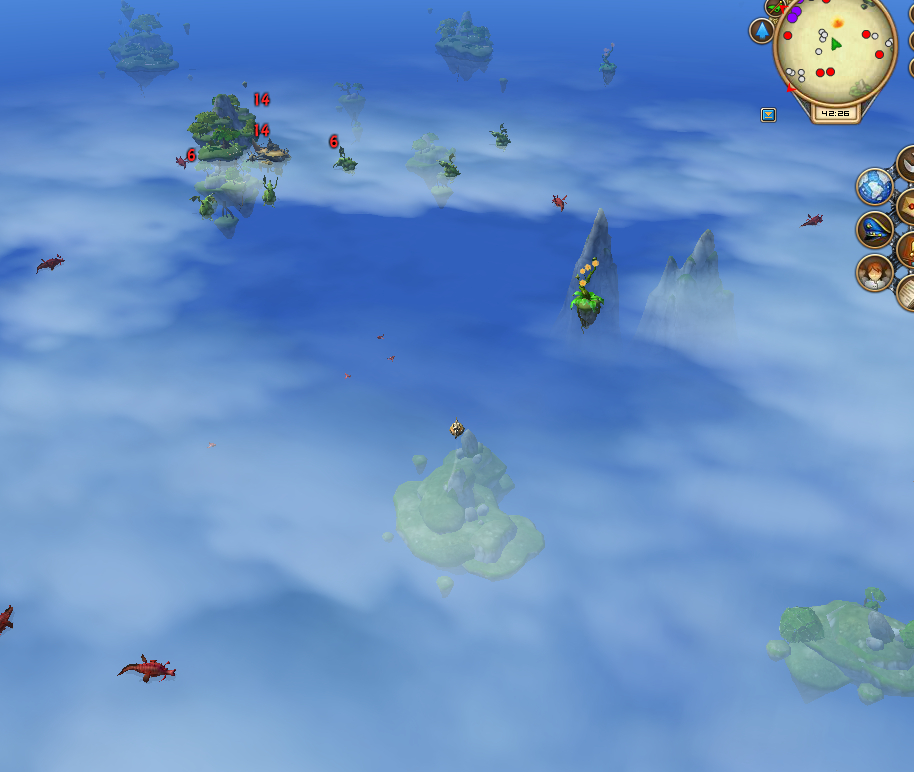dandelion-full: (566, 255, 610, 323), (597, 41, 620, 82)
